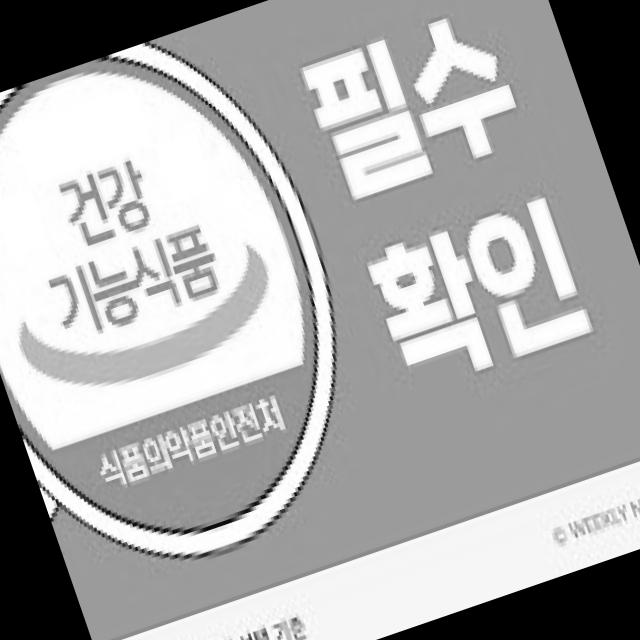HEALTHY: (0, 14, 379, 573)
